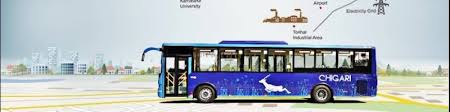Chigari: (137, 38, 382, 107)
